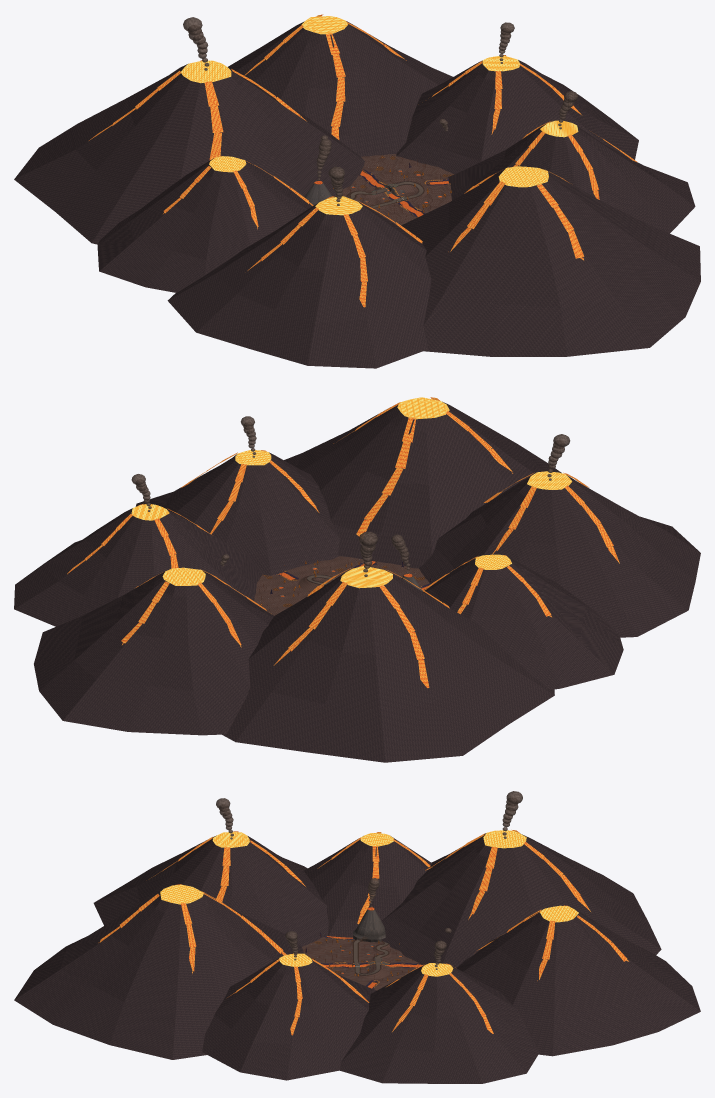
3 renders of one model, top to bottom at view 1: azimuth 30°, elevation 25°; view 2: azimuth 150°, elevation 25°; view 3: azimuth 270°, elevation 25°, orthographic. The views are drawn at different scales.
Visible parts, largest first — view 1: Far Volcano 1.002, Far Volcano 0.002, Far Volcano 0.001, Far Volcano 1, Far Volcano 1.001, Far Volcano 0, Far Volcano 0.003, Field, Far Field, Smoke Plume 1 120.001; view 2: Far Volcano 0.001, Far Volcano 1, Far Volcano 1.002, Far Volcano 0.002, Far Volcano 0, Far Volcano 1.001, Far Volcano 0.003, Field, Far Field; view 3: Far Volcano 1.002, Far Volcano 1, Far Volcano 0.001, Far Volcano 0, Far Volcano 0.003, Far Volcano 0.002, Far Volcano 1.001, Field, Volcano, Smoke Plume 1 120.001.
Boxes of the visible parts, x1,y1,x2,y2 form: Far Volcano 1.002: (401, 166, 700, 356); Far Volcano 0.002: (167, 196, 431, 368); Far Volcano 0.001: (14, 60, 364, 244); Far Volcano 1: (228, 14, 452, 156); Far Volcano 1.001: (97, 156, 313, 292); Far Volcano 0: (396, 55, 638, 174); Far Volcano 0.003: (448, 120, 695, 233); Field: (334, 162, 451, 222); Far Field: (358, 154, 453, 225); Smoke Plume 1 120.001: (183, 17, 209, 70); Far Volcano 0.001: (222, 566, 554, 762); Far Volcano 1: (34, 567, 274, 735); Far Volcano 1.002: (284, 397, 561, 568); Far Volcano 0.002: (419, 471, 700, 637); Far Volcano 0: (14, 503, 261, 626); Far Volcano 1.001: (423, 554, 623, 689); Far Volcano 0.003: (135, 450, 339, 575); Field: (255, 559, 430, 603); Far Field: (254, 556, 427, 615); Far Volcano 1.002: (14, 884, 303, 1059); Far Volcano 1: (457, 905, 700, 1056); Far Volcano 0.001: (381, 830, 661, 967); Far Volcano 0: (339, 963, 539, 1083); Far Volcano 0.003: (202, 953, 376, 1080); Far Volcano 0.002: (93, 831, 328, 946); Far Volcano 1.001: (304, 832, 431, 937); Field: (320, 936, 416, 990); Volcano: (353, 907, 385, 942); Smoke Plume 1 120.001: (502, 791, 522, 838).
Bounding box in the file's own units: 2197 × 617 × 2793.
Materials: 20 (20 with a texture image).
